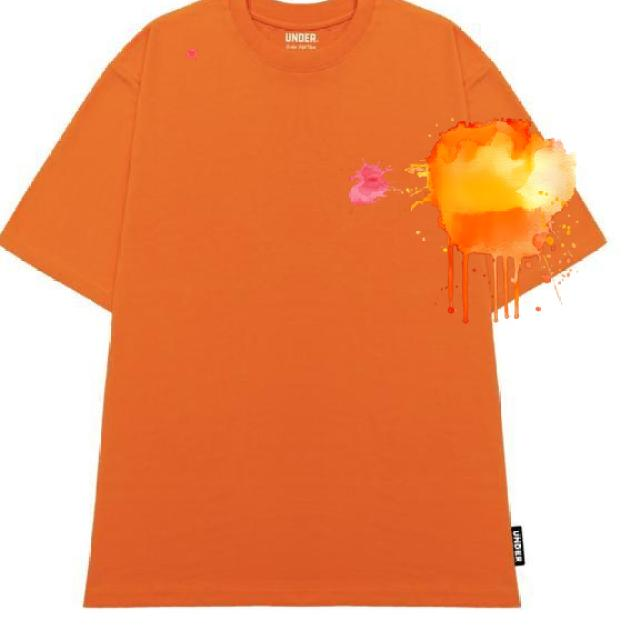stain: (420, 124, 580, 323), (331, 152, 395, 216), (164, 40, 208, 68)
